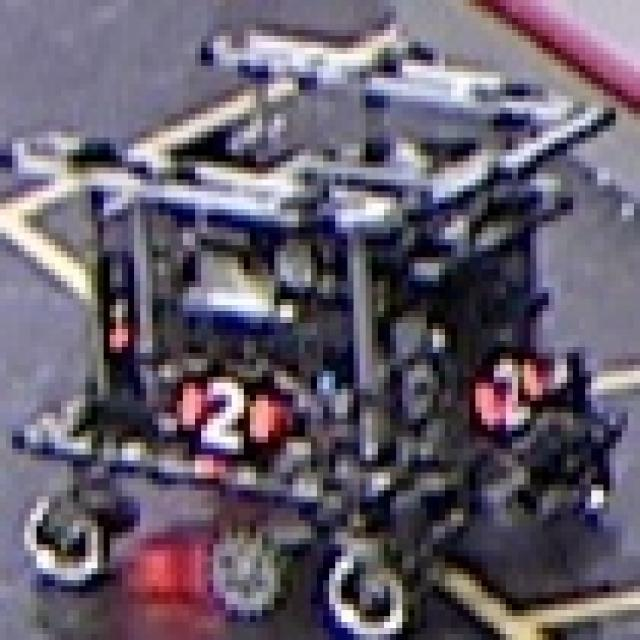R2: (168, 356, 277, 457), (457, 335, 555, 437)
